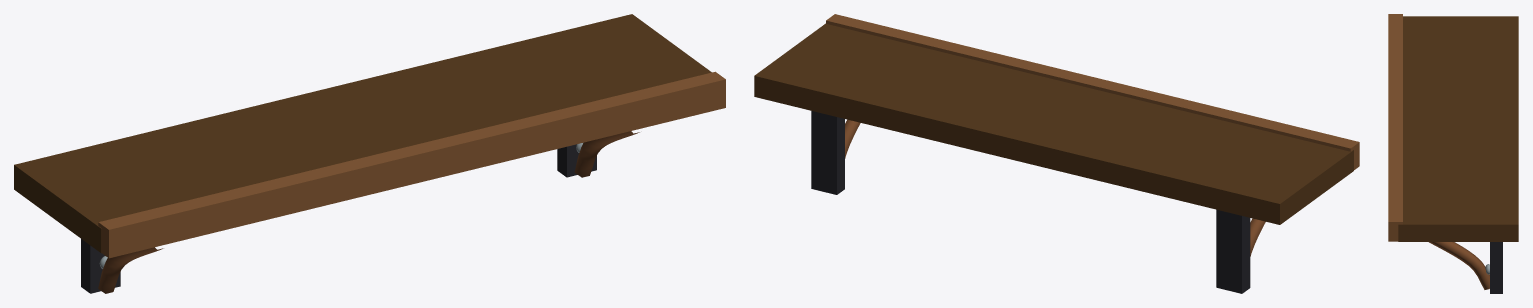
Rendered from mia-wall_shelf.glb.
The picture shows the model from 3 angles, left to right: view 1: azimuth 30°, elevation 25°; view 2: azimuth 150°, elevation 25°; view 3: azimuth 270°, elevation 25°; orthographic projection. The views are drawn at different scales.
Parts seen in each view (by area): view 1: Body_wood, Body_oak, Body_rust, Body_iron; view 2: Body_wood, Body_oak, Body_iron, Body_rust; view 3: Body_wood, Body_oak, Body_rust, Body_iron.
Boxes of the visible parts, box(x1,y1,x2,y2) form: Body_wood: box(14, 14, 711, 253); Body_oak: box(98, 71, 725, 258); Body_rust: box(98, 131, 639, 293); Body_iron: box(81, 144, 596, 293); Body_wood: box(754, 23, 1353, 224); Body_oak: box(826, 14, 1359, 169); Body_iron: box(811, 111, 1250, 293); Body_rust: box(845, 119, 1265, 256); Body_wood: box(1398, 16, 1518, 241); Body_oak: box(1388, 14, 1402, 241); Body_rust: box(1429, 242, 1489, 289); Body_iron: box(1490, 242, 1502, 293).
Bounding box in the file's own units: 1.02 × 0.207 × 0.2695.
